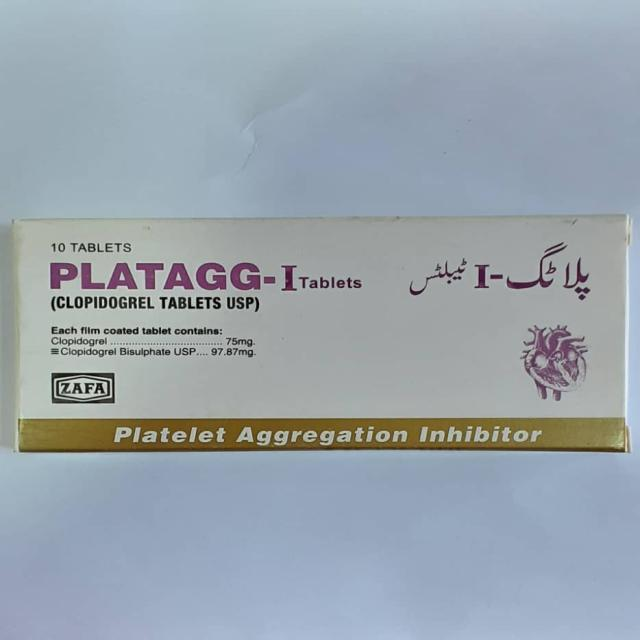drug-name: (48, 262, 297, 292)
